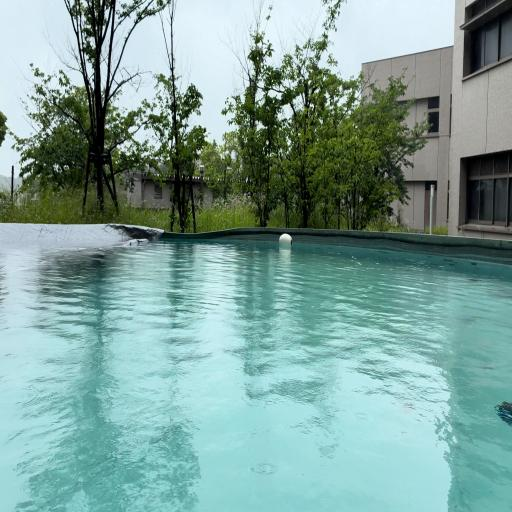white buoy: (279, 234, 292, 247)
